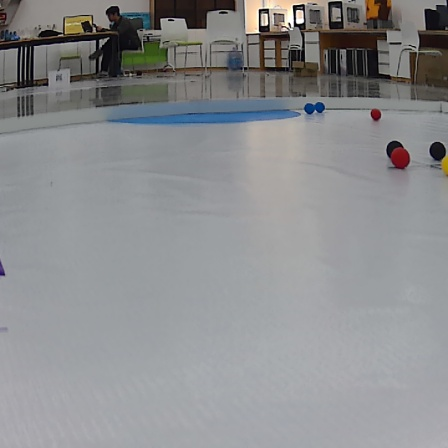black: (426, 141, 446, 159), (384, 136, 402, 154)
blue: (304, 101, 315, 117), (314, 102, 327, 113)
blue_base: (94, 111, 288, 125)
red: (388, 151, 413, 172), (370, 108, 384, 122)
yellow: (441, 156, 448, 177)
